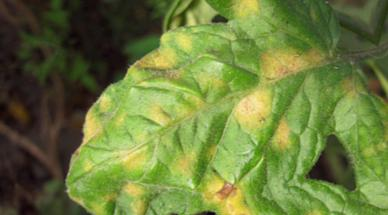Tomato mold leaf: (7, 0, 388, 215)
